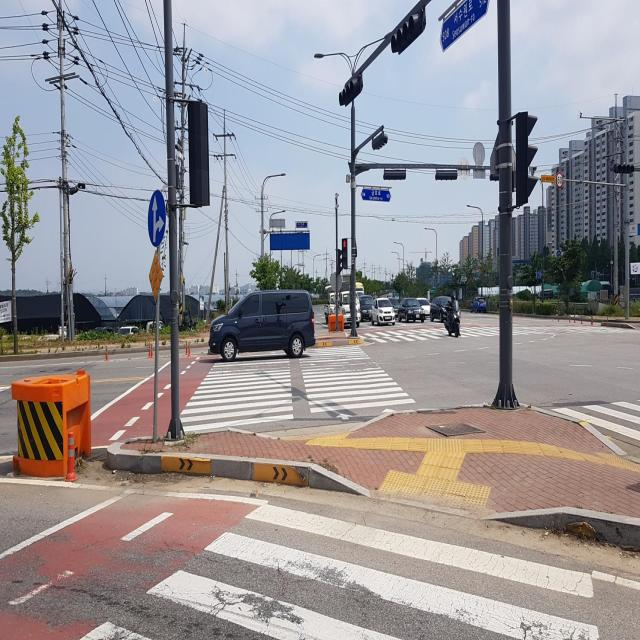횡단보도: (75, 501, 600, 637), (180, 349, 408, 427), (547, 379, 640, 468), (362, 316, 576, 341)
